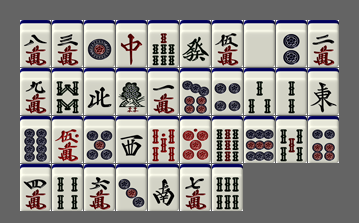0m: (52, 116, 83, 163)
0p: (180, 116, 211, 163)
0s: (148, 116, 179, 163)
1m: (148, 68, 179, 115)
1p: (84, 20, 115, 67)
1s: (116, 68, 147, 115)
1z: (308, 68, 339, 115)
2m: (308, 20, 339, 67)
2p: (276, 20, 307, 67)
2s: (276, 68, 307, 115)
2z: (148, 164, 179, 211)
3m: (52, 20, 83, 67)
3p: (116, 164, 147, 211)
3s: (244, 68, 275, 115)
3z: (116, 116, 147, 163)
4m: (20, 164, 51, 211)
4p: (212, 68, 243, 115)
4s: (52, 164, 83, 211)
4z: (84, 68, 115, 115)
5m: (212, 20, 243, 67)
5p: (84, 116, 115, 163)
5s: (276, 116, 307, 163)
5z: (244, 20, 275, 67)
6m: (84, 164, 115, 211)
6p: (308, 116, 339, 163)
6s: (212, 164, 243, 211)
6z: (180, 20, 211, 67)
7m: (180, 164, 211, 211)
7p: (180, 68, 211, 115)
7s: (148, 20, 179, 67)
7z: (116, 20, 147, 67)
8m: (20, 20, 51, 67)
8p: (20, 116, 51, 163)
8s: (52, 68, 83, 115)
9m: (20, 68, 51, 115)
9p: (244, 116, 275, 163)
9s: (212, 116, 243, 163)
